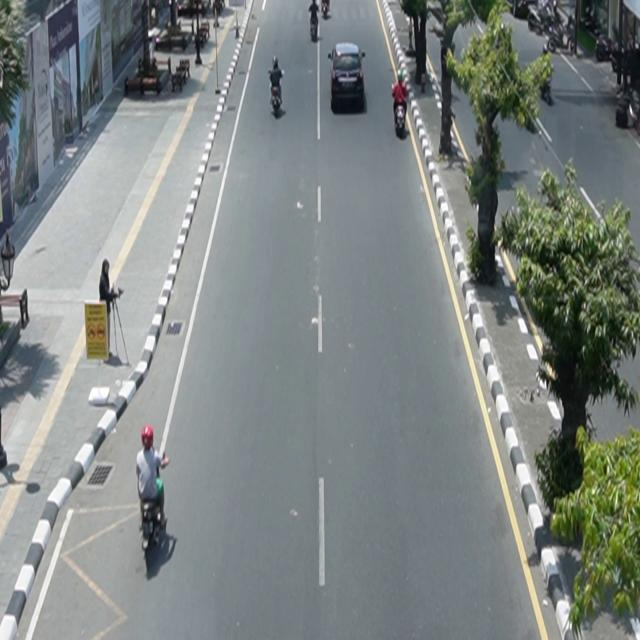car: (329, 43, 367, 111)
